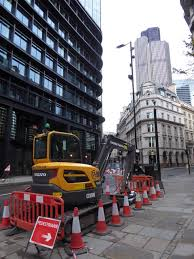excavator: (30, 132, 142, 234)
